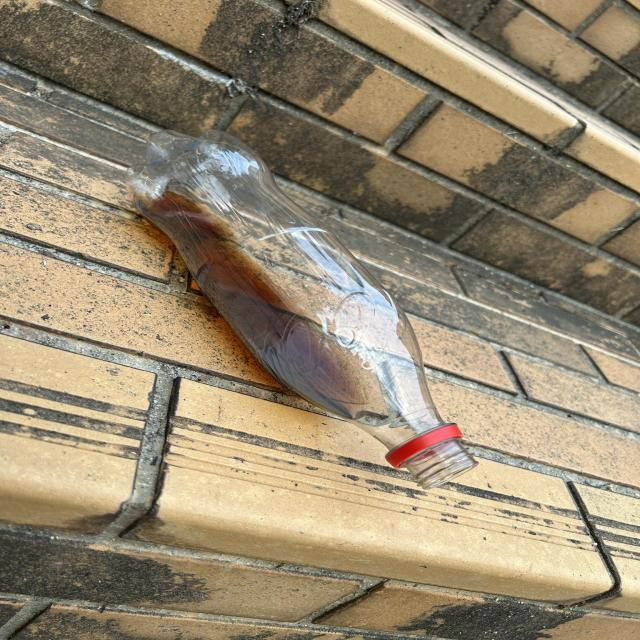low: (127, 130, 476, 488)
